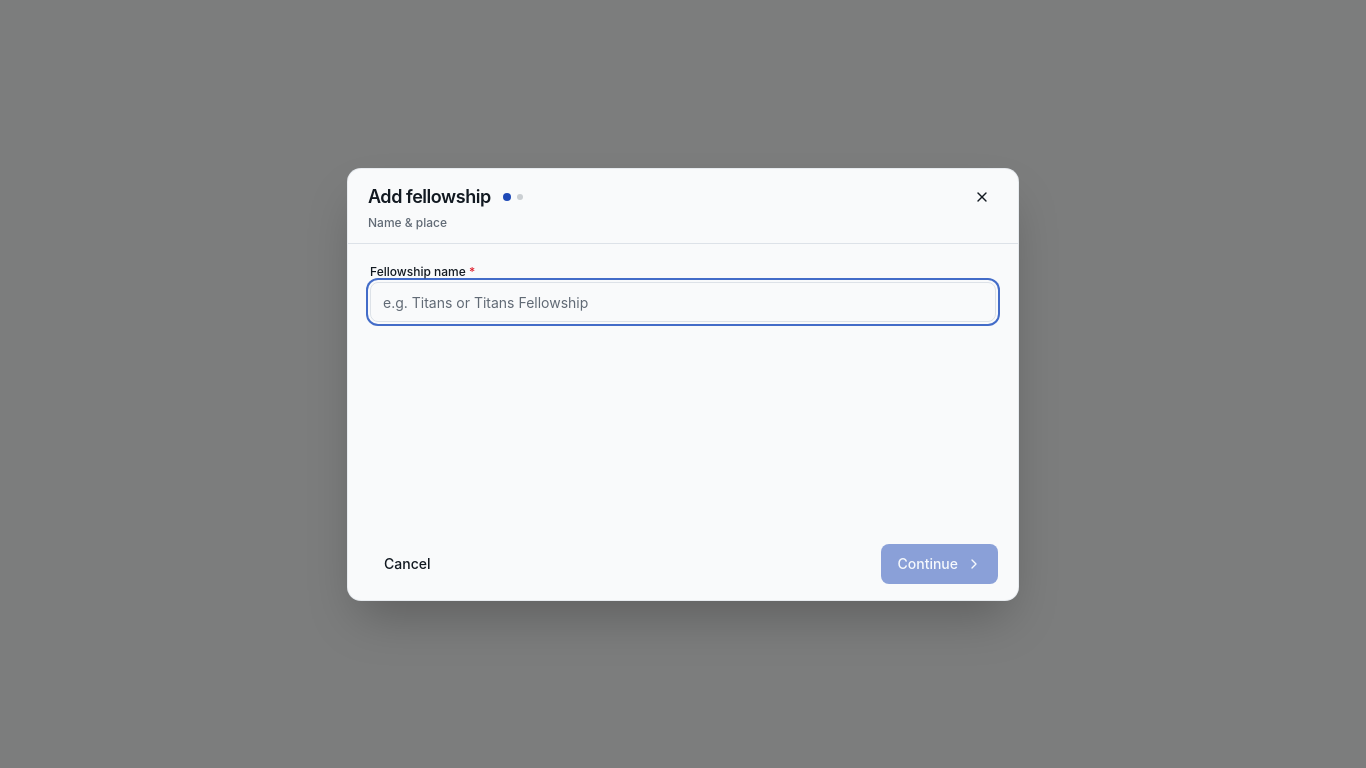
Scenario: UnitCreateWizard › shows home address and a region dropdown on the Ghana leader step
In the field labelled "Fellowship name *": (683, 302) top-left (370, 282), bottom-right (996, 322), type "Zion"
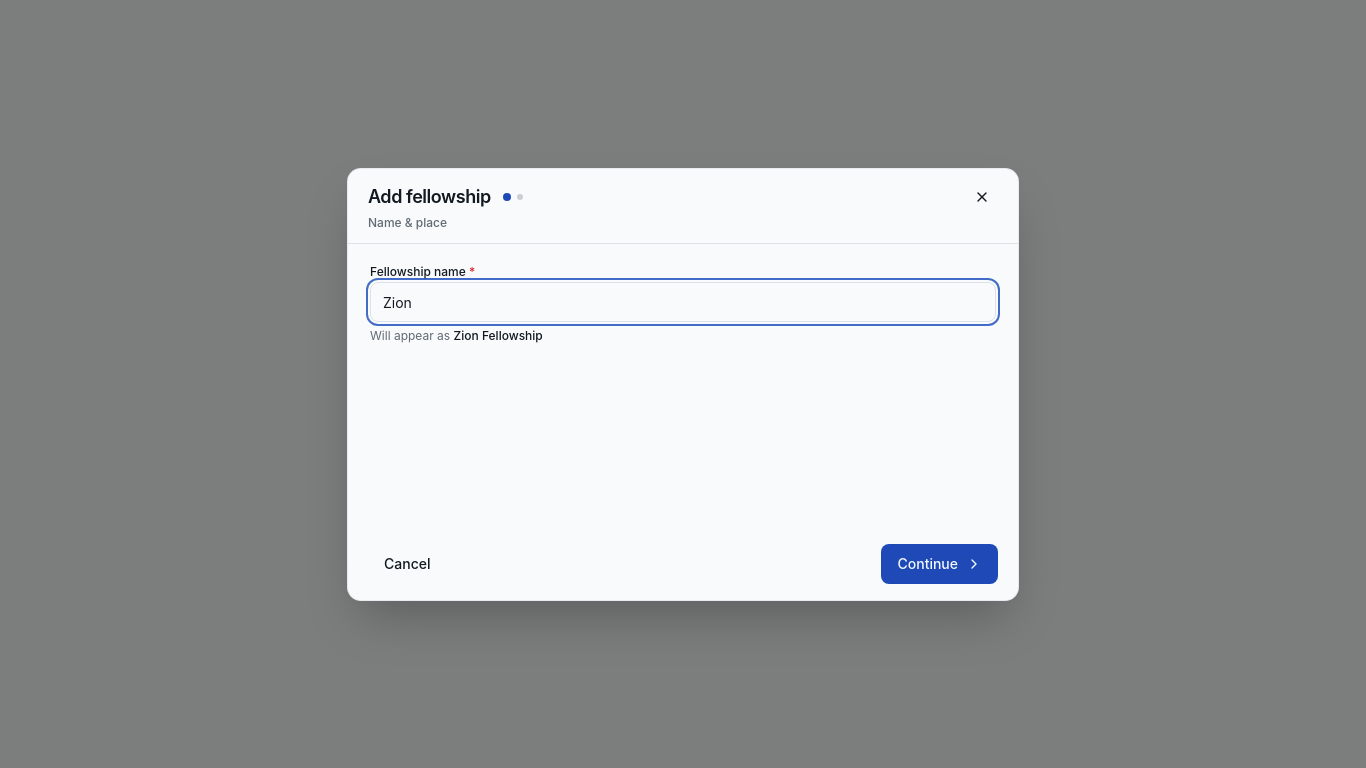
Click the button "Continue": (940, 564) top-left (882, 544), bottom-right (998, 584)
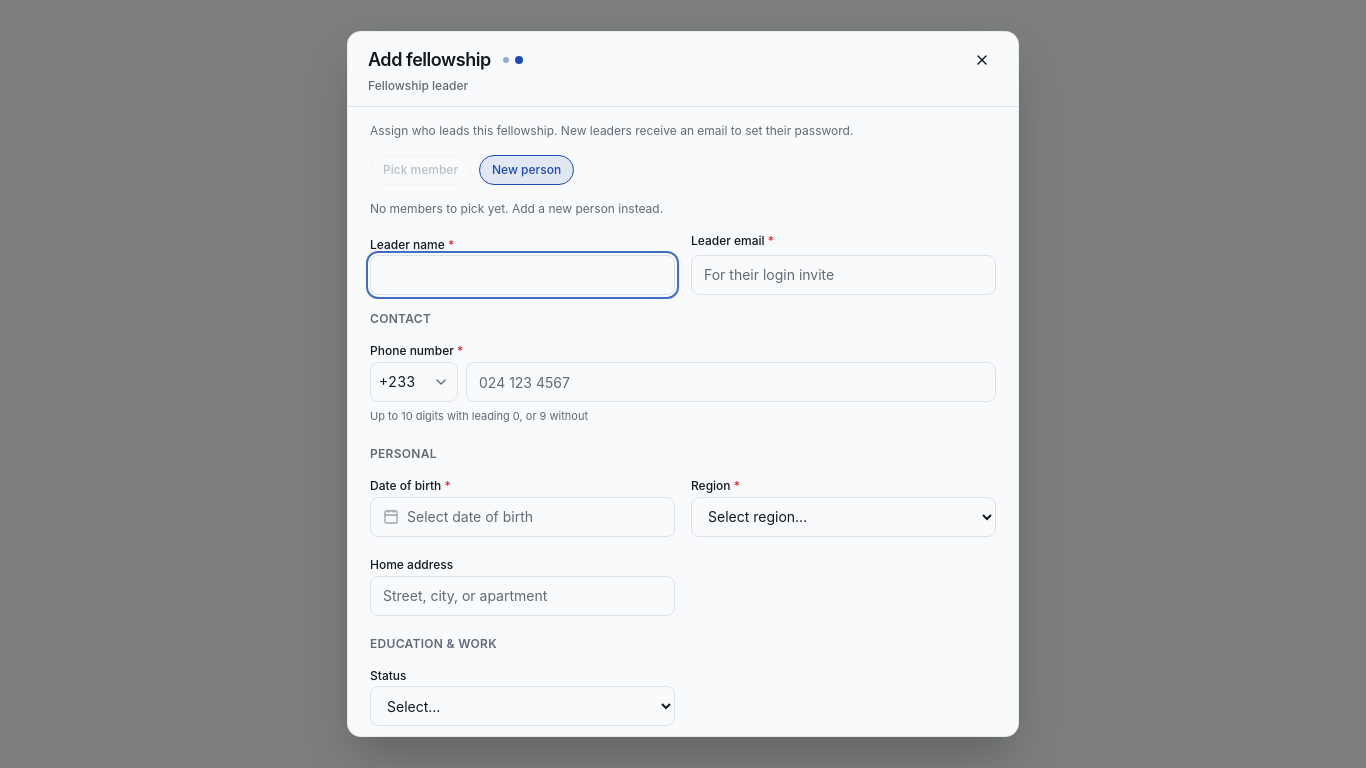
Check: the field labelled "Home address" is shown, box top-left (370, 576), bottom-right (675, 616)
Check: the dropdown labelled "Region *" is shown, box top-left (691, 497), bottom-right (996, 537)
